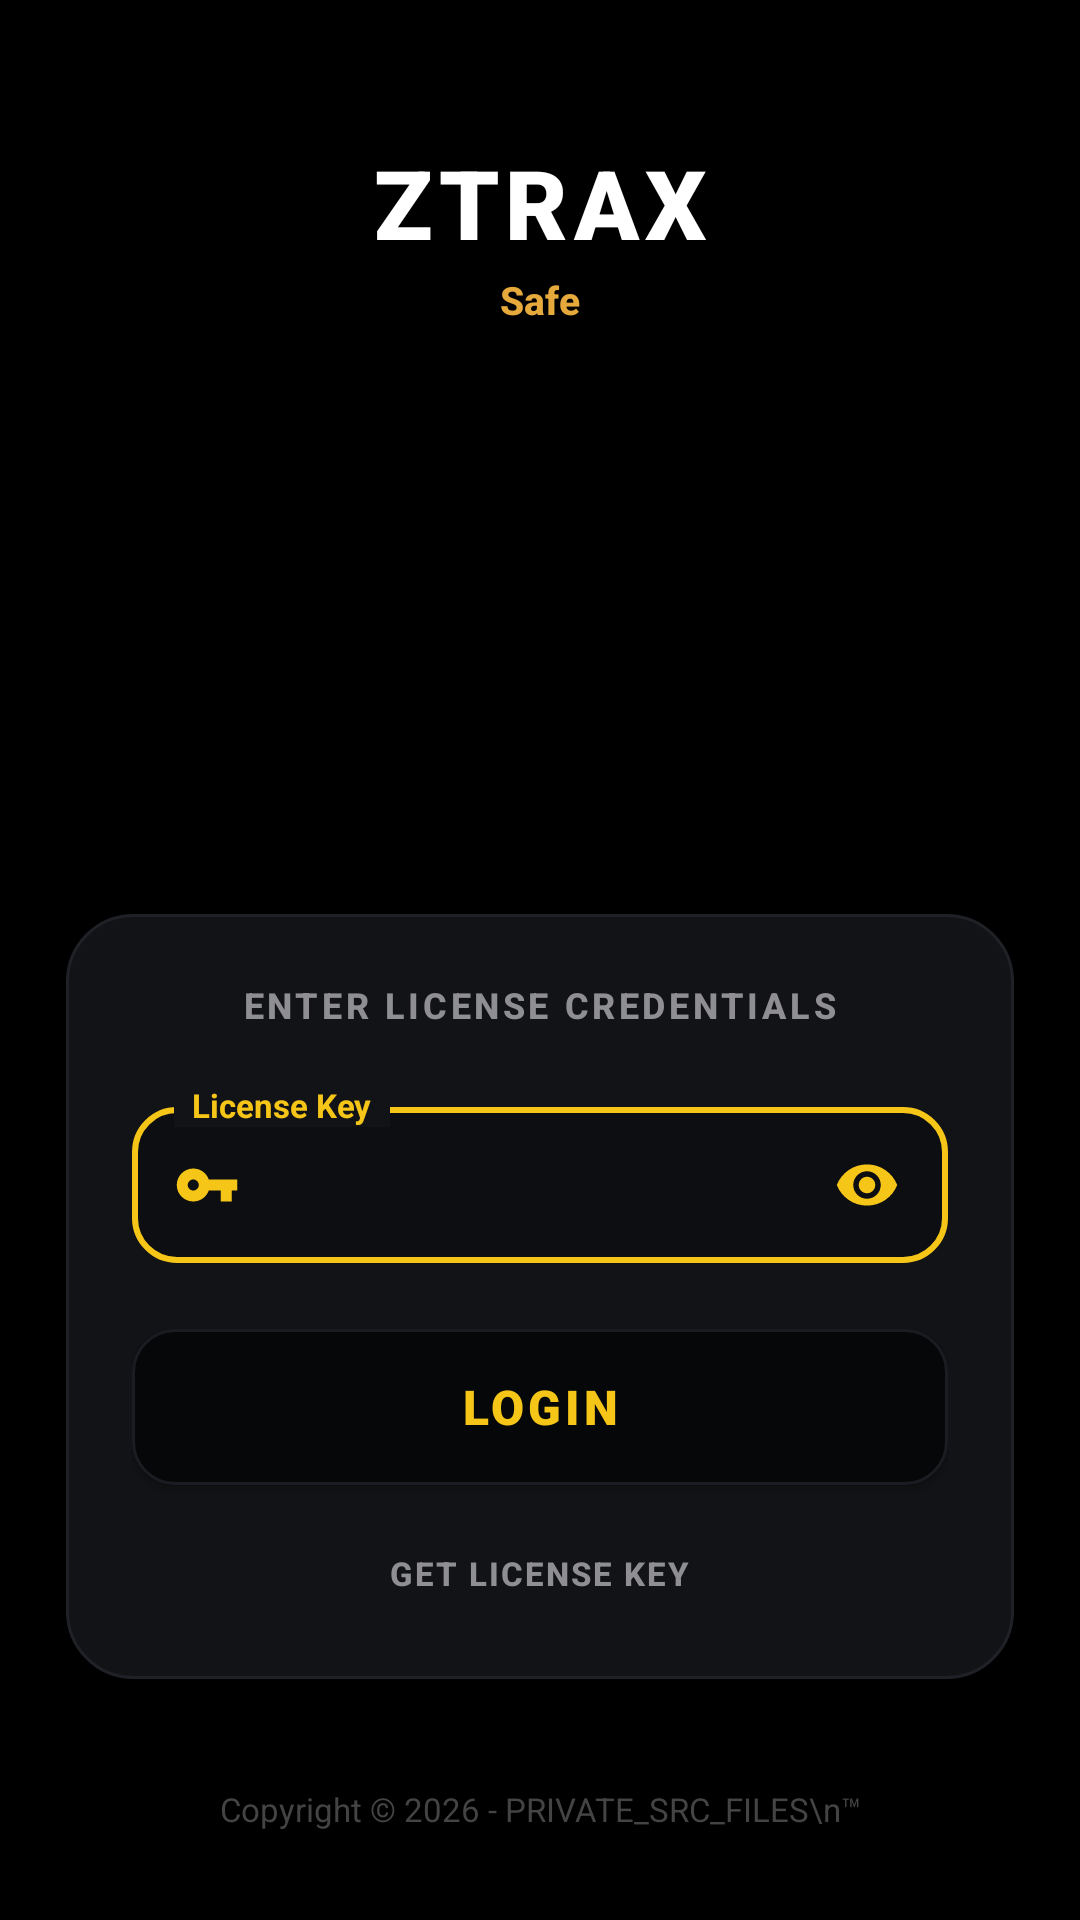

Where to tap for icons on this 1080 x 1920 app screen, as [x,y]:
Toggle Password / Paste: [867,1185]
